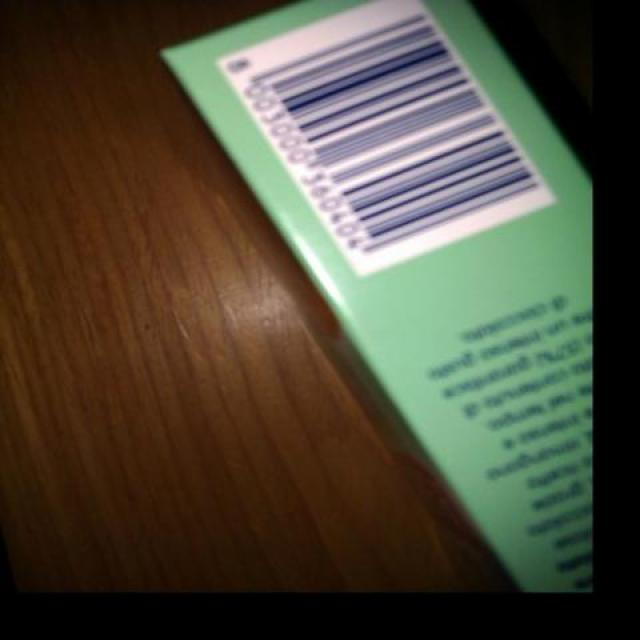Barcode: (212, 1, 565, 278)
